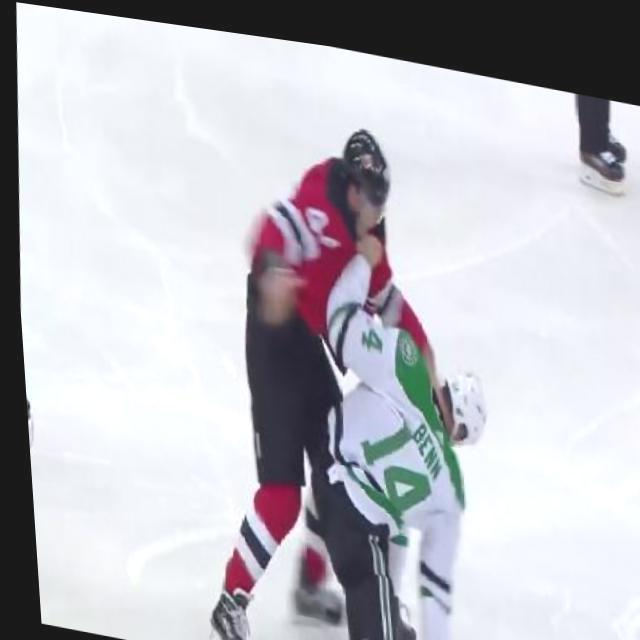fight: (202, 85, 516, 640)
